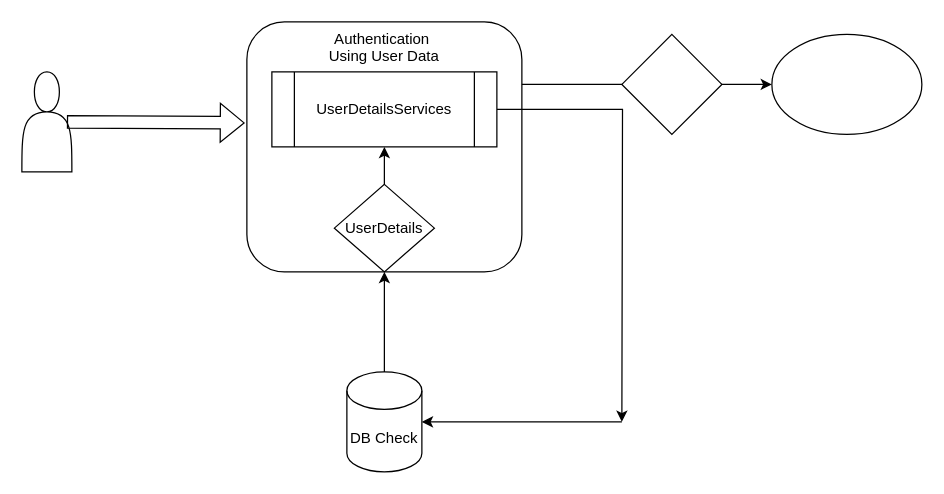
The diagram is 944 pixels wide and 494 high, and some of its shapes have lost their labels. The centre of each missing label's shape, as x and y in pixels:
"Access to Resourse" goes at (846,83).
"Authenticated" goes at (671,83).
